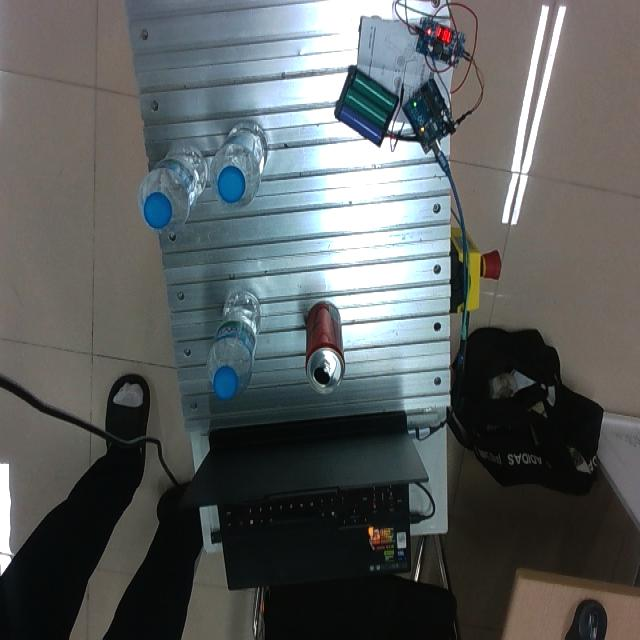coca: (305, 303, 346, 396)
lavie: (139, 146, 210, 235), (208, 289, 262, 402), (212, 122, 269, 210)
